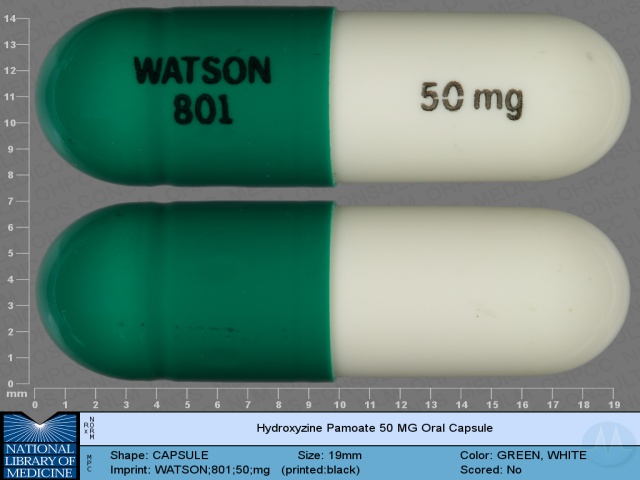0: (195, 92, 217, 130), (443, 79, 465, 115)
1: (217, 92, 236, 130)
5: (420, 78, 440, 115)
8: (171, 90, 194, 129)
A: (162, 55, 186, 85)
N: (245, 54, 272, 86)
O: (223, 53, 246, 86)
S: (199, 54, 222, 87)
T: (183, 55, 200, 85)
W: (127, 53, 163, 85)
capsule: (35, 198, 634, 386), (33, 4, 635, 189)
mg: (472, 85, 528, 125)
